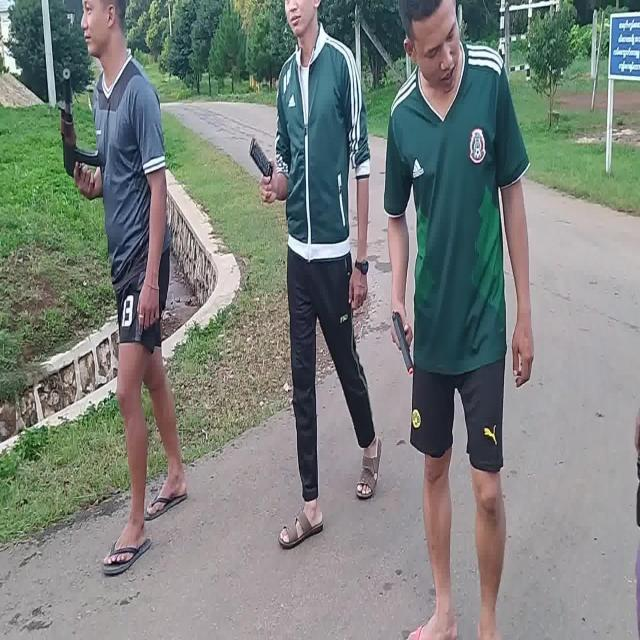gun: (58, 72, 106, 190), (392, 314, 414, 376)
